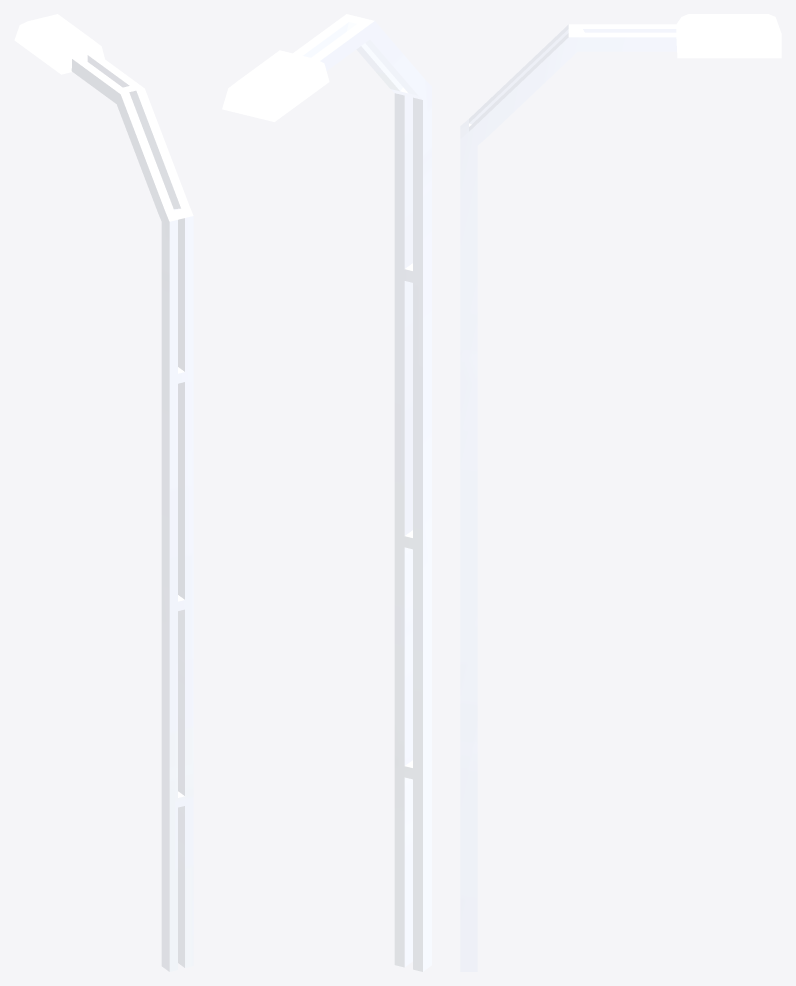
Rendered from pole.glb.
3 views of the same model, side by side, from view 1: azimuth 30°, elevation 25°; view 2: azimuth 150°, elevation 25°; view 3: azimuth 270°, elevation 25° (orthographic). The views are drawn at different scales.
Visible parts, largest first — view 1: Object16; view 2: Object16; view 3: Object16.
Boxes of the visible parts, box(x1,y1,x2,y2) form: Object16: box(14, 14, 193, 971); Object16: box(222, 14, 431, 971); Object16: box(460, 14, 781, 971).
Size of the model in its own units: 0.1954 by 3.53 by 1.09.
1 material, 1 textured.
